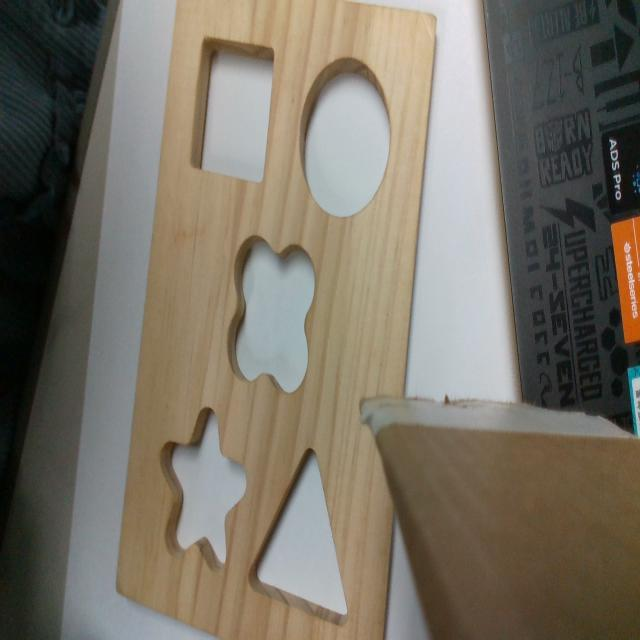circle: (301, 58, 391, 218)
flower: (227, 238, 315, 392)
square: (188, 32, 274, 182)
star: (160, 406, 247, 569)
triangle: (248, 447, 350, 625)
